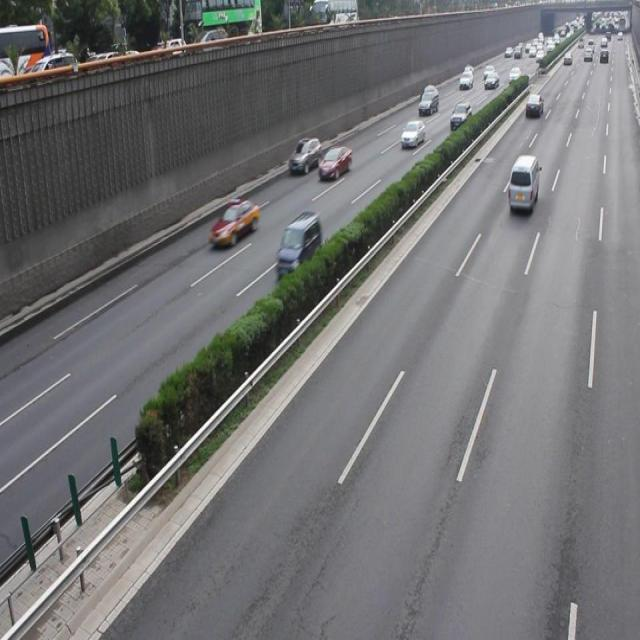car: (208, 197, 258, 247), (288, 136, 321, 174), (318, 144, 351, 178)
truck: (275, 212, 321, 276), (507, 156, 538, 213)
